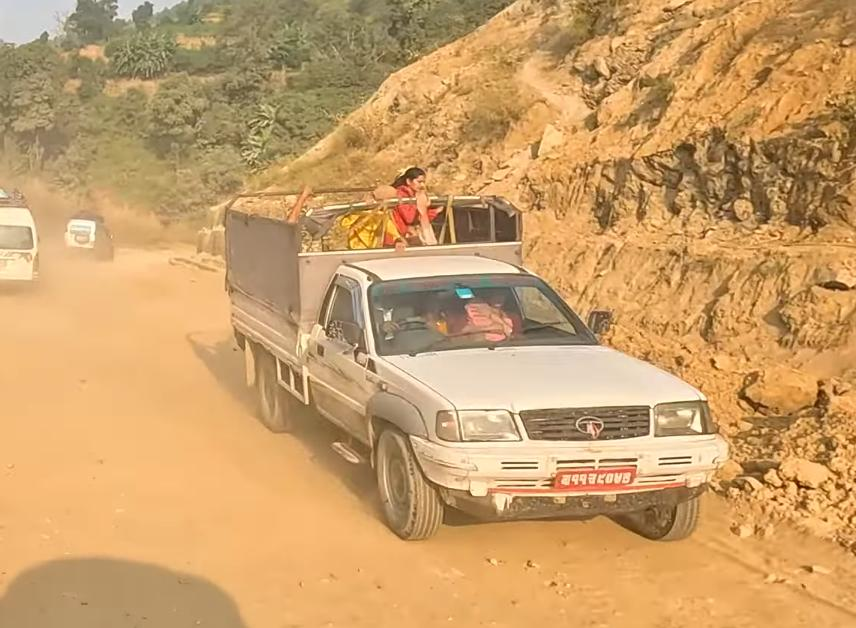SUV: (62, 205, 128, 271)
micro_bus: (0, 175, 50, 303)
transport_vehicle: (212, 166, 735, 556)
